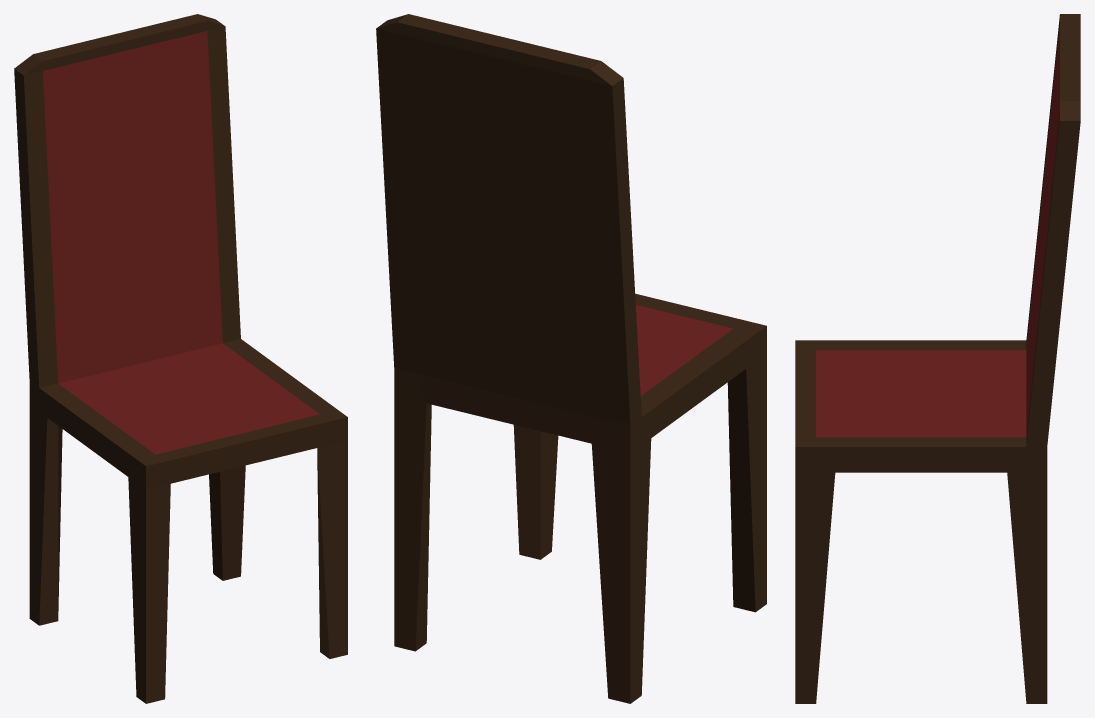
Rendered from Chair.glb.
3 renders of one model, left to right at view 1: azimuth 30°, elevation 25°; view 2: azimuth 150°, elevation 25°; view 3: azimuth 270°, elevation 25°, orthographic. The views are drawn at different scales.
Parts seen in each view (by area): view 1: Cube; view 2: Cube; view 3: Cube.
Part boxes in pixels (bbox=[...]): Cube: bbox=[14, 14, 347, 703]; Cube: bbox=[376, 14, 766, 703]; Cube: bbox=[795, 14, 1080, 703].
Size of the model in its own units: 2 by 5.2 by 2.27.
